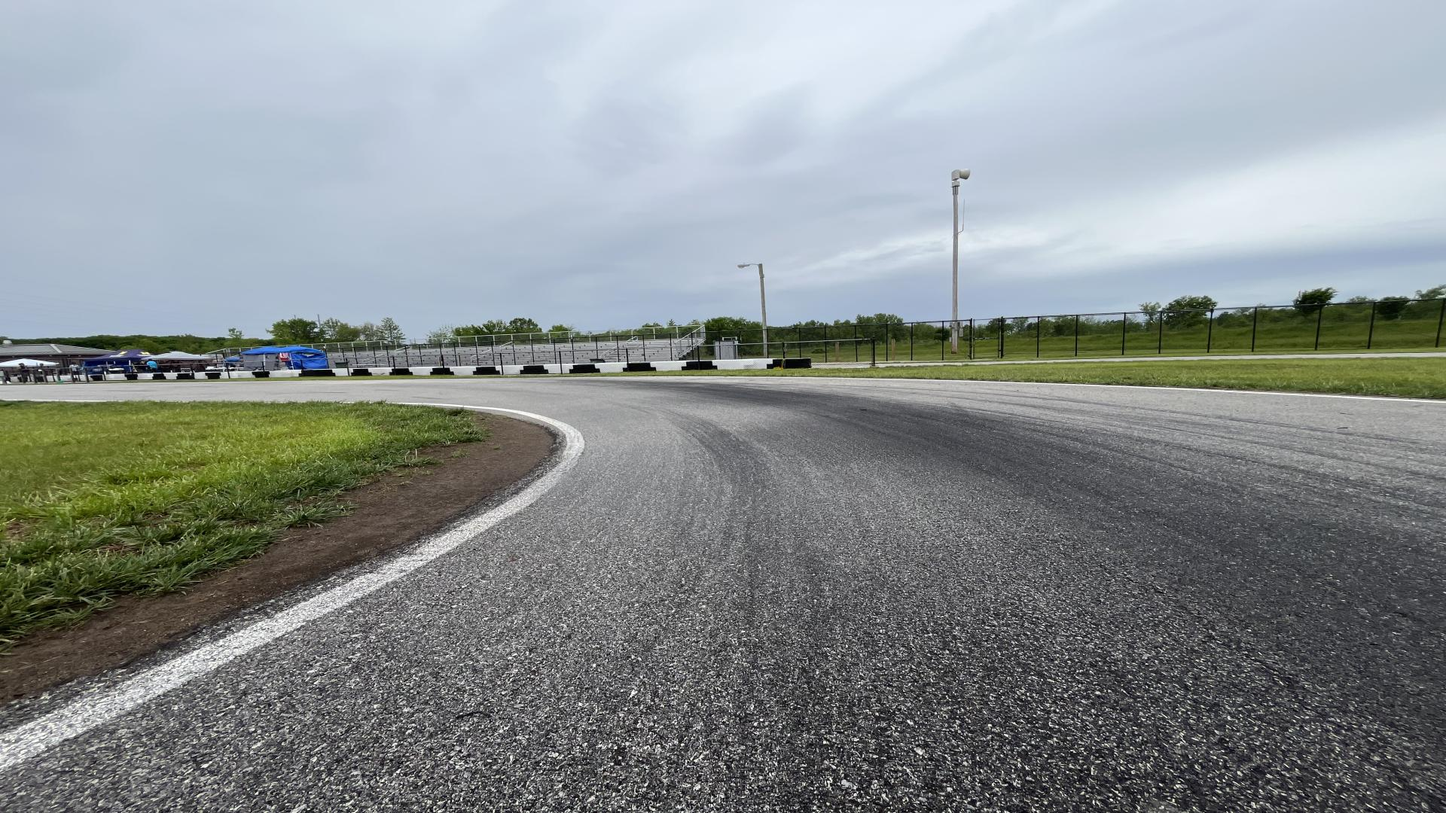white-line: (1, 402, 585, 772), (569, 376, 1445, 403)
